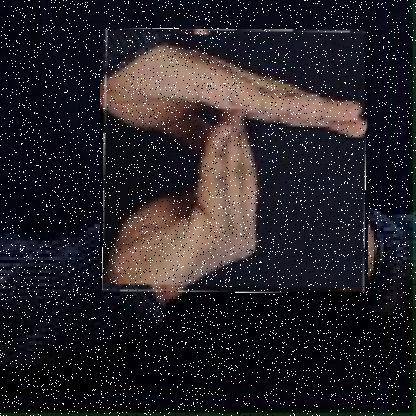Z: (103, 29, 366, 293)
